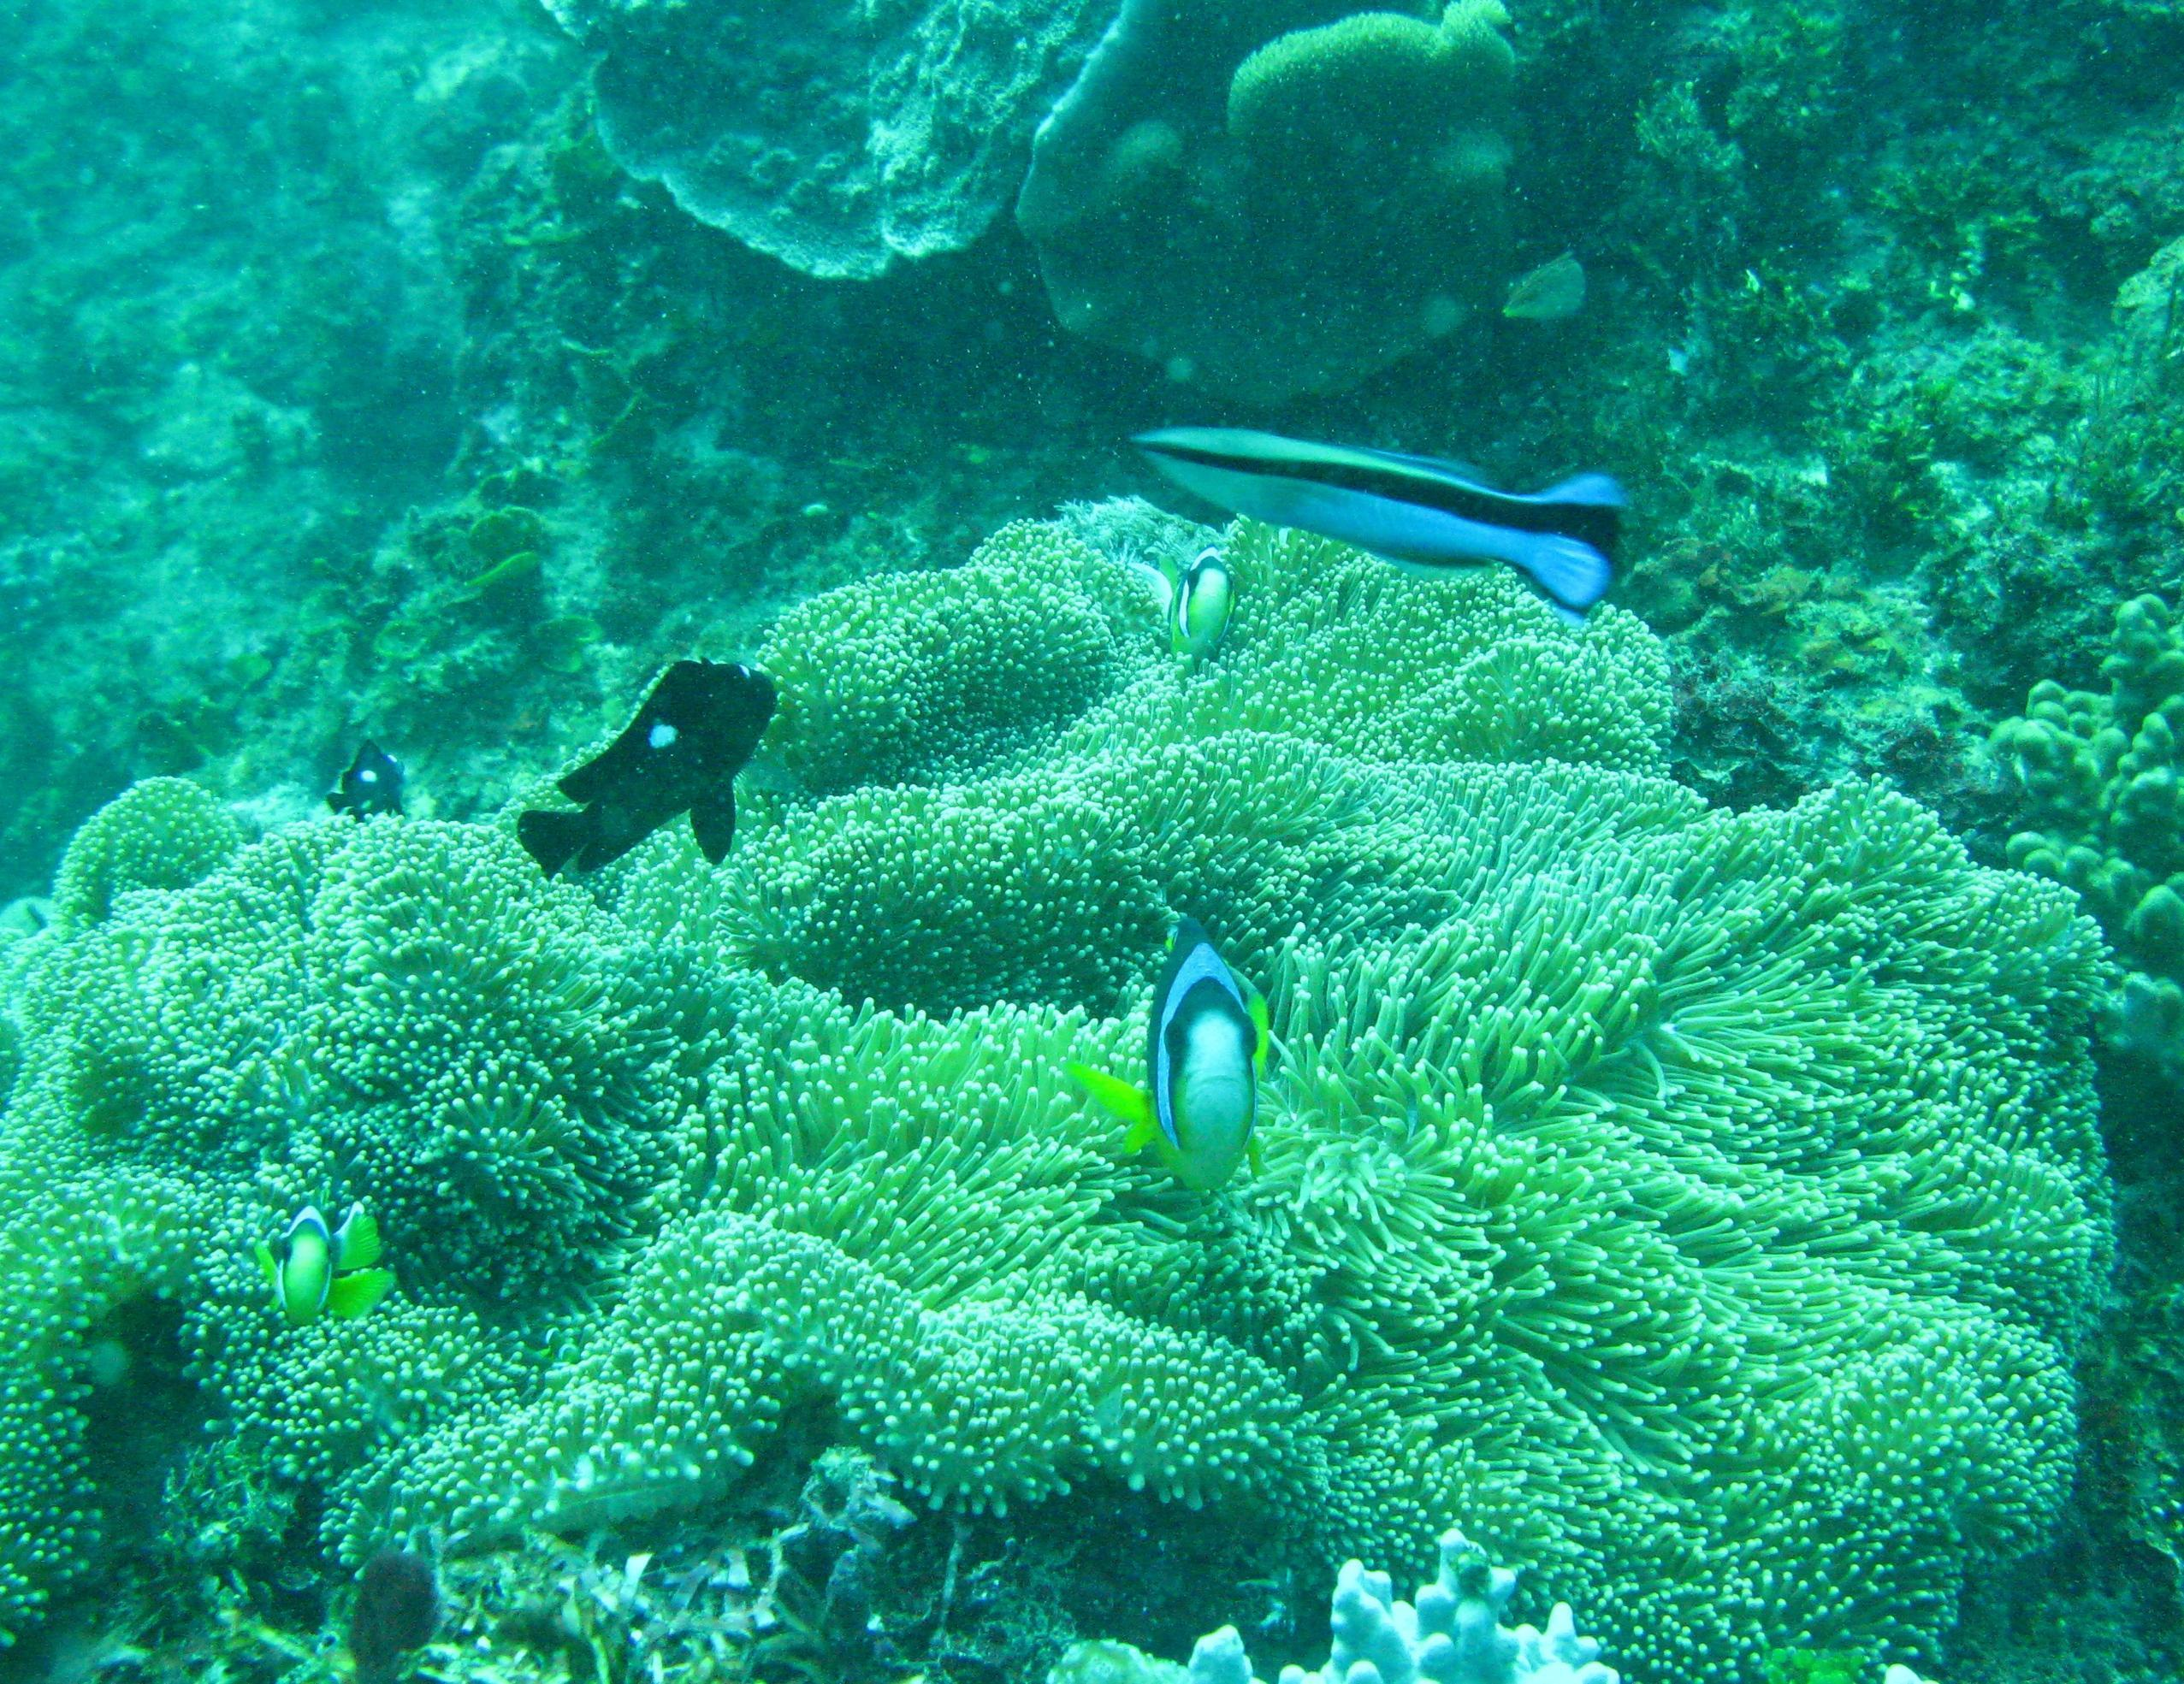Dascyllus trimaculatus: (523, 660, 789, 884)
